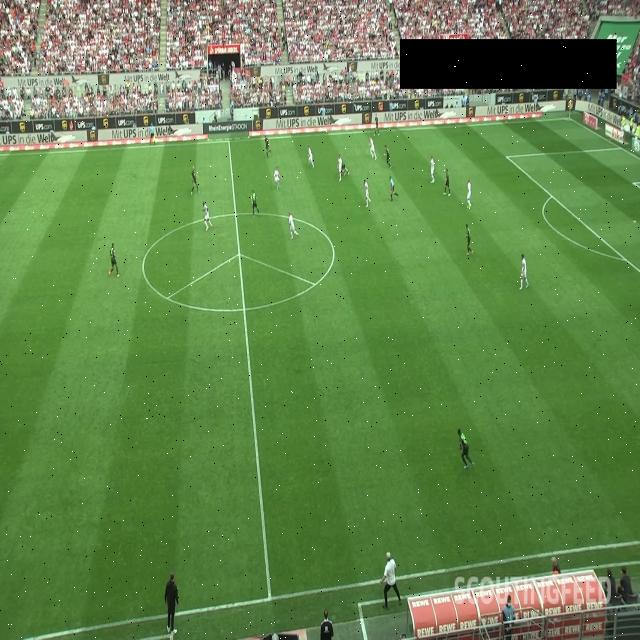Ball: (338, 178, 342, 183)
Referee: (389, 175, 399, 202), (148, 122, 156, 145)
TEAM 1: (457, 428, 475, 468), (109, 242, 120, 278), (464, 224, 474, 255), (190, 166, 200, 195), (251, 189, 261, 217), (443, 167, 451, 198), (264, 134, 272, 159), (384, 145, 392, 169), (339, 162, 350, 178), (374, 114, 380, 136)
TEAM 2: (360, 180, 372, 208), (520, 253, 529, 290), (202, 201, 213, 230), (288, 212, 299, 240), (273, 166, 283, 190), (369, 137, 377, 161), (307, 146, 315, 169), (466, 180, 472, 208), (430, 156, 436, 184), (337, 155, 342, 182)
